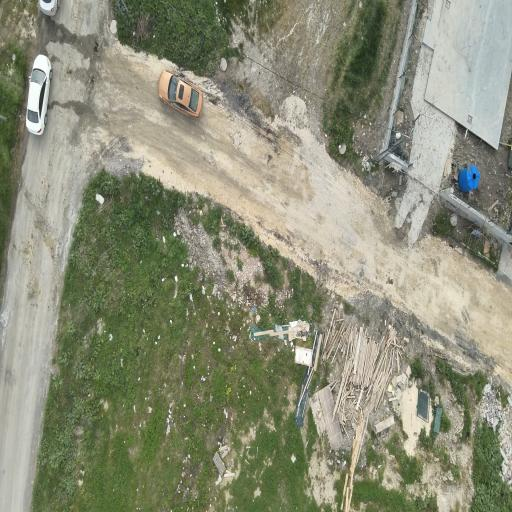car: (25, 55, 51, 134), (158, 72, 201, 117), (39, 0, 59, 16)
